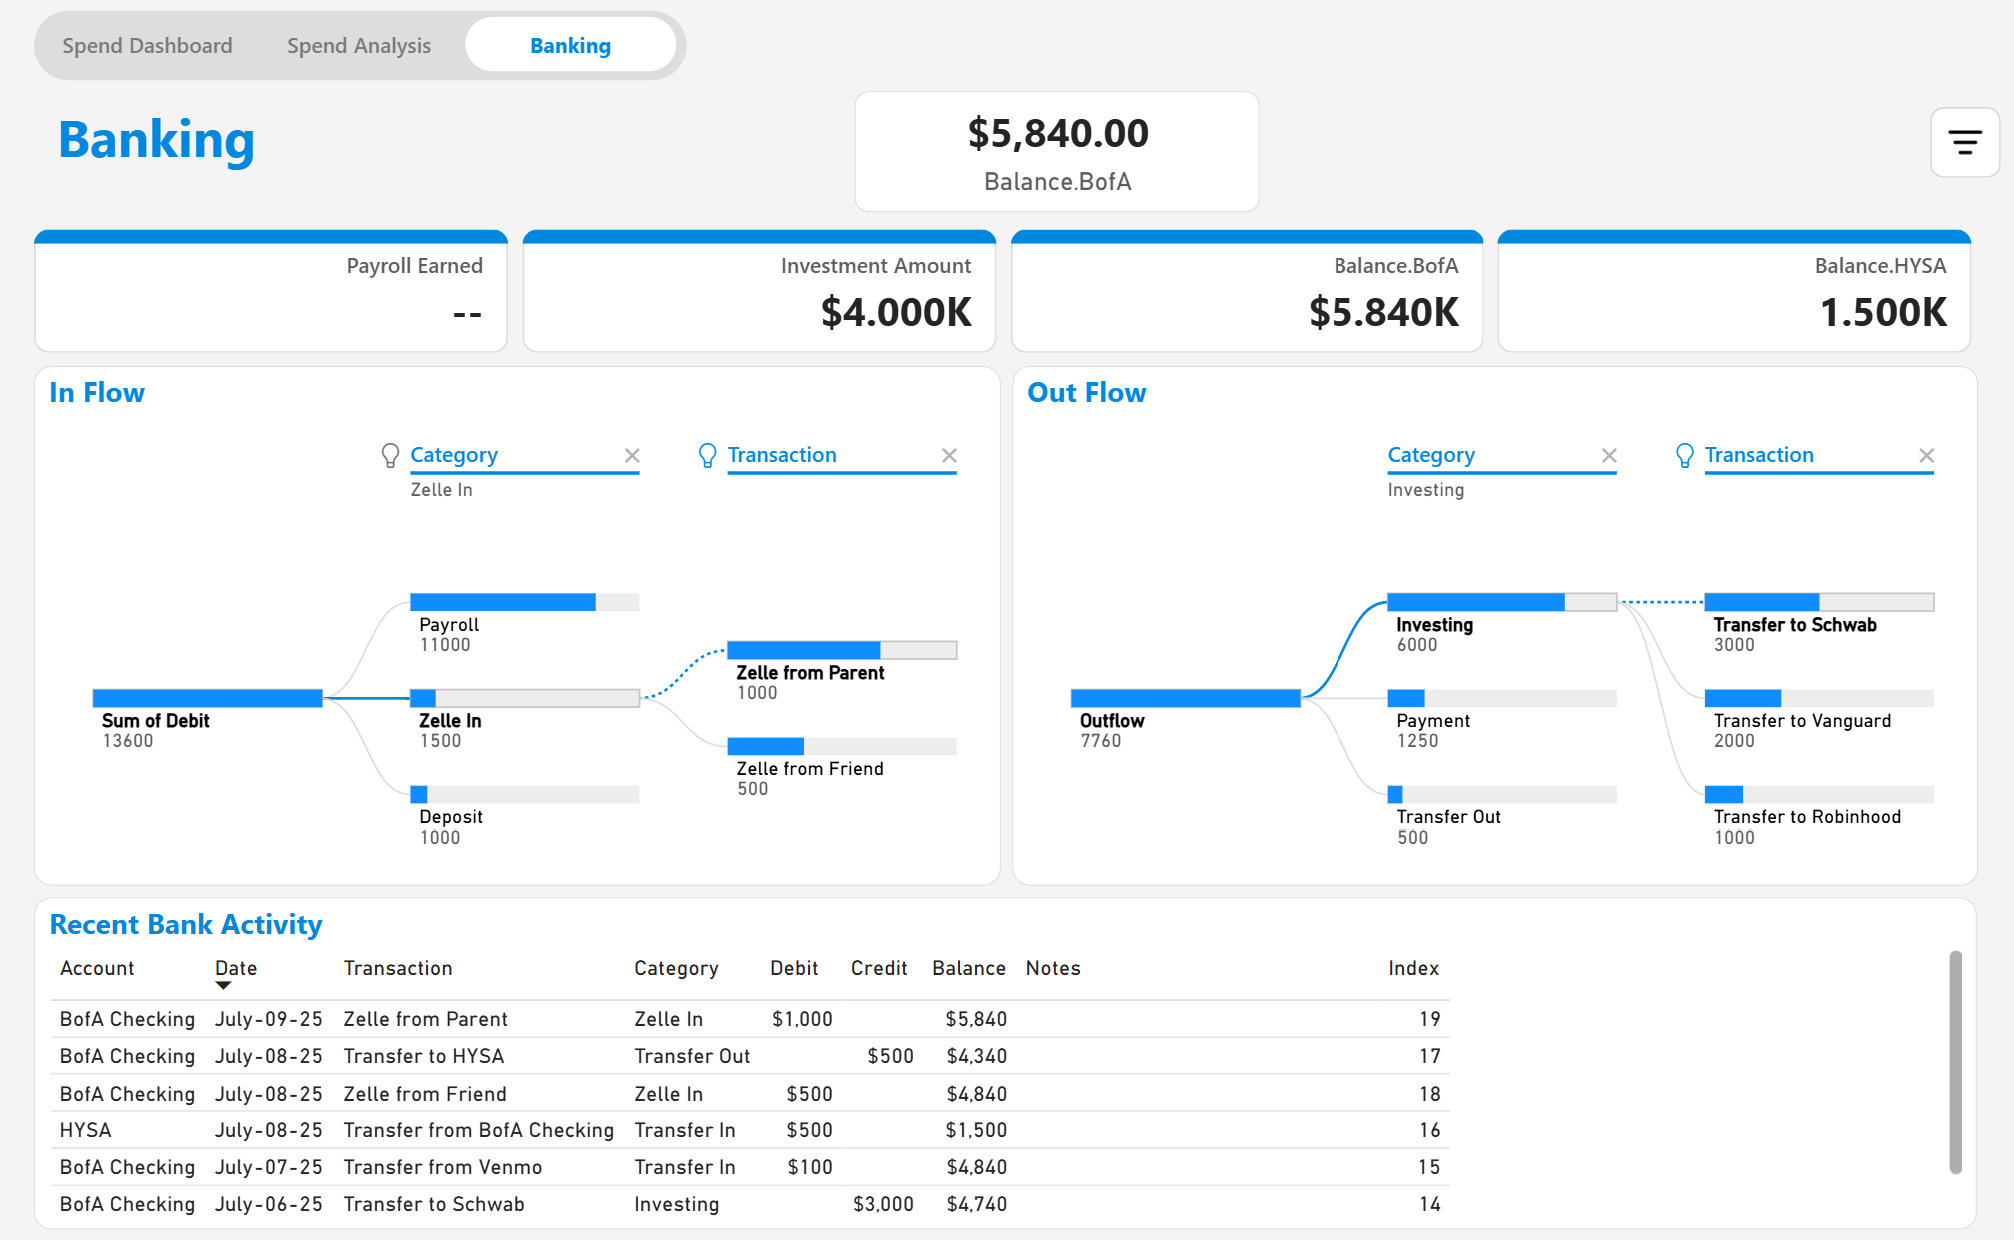

The page's visual inventory and layout, read from the dashboard file:
{"tool":"powerbi","page":{"name":"Banking","canvas":[1280,720],"ordinal":2},"visuals":[{"type":"shape","box":[0,0,60.8,719.8],"z":0,"group":"g1"},{"type":"group","id":"g1","title":"Nav - Left Icons","box":[0,0,60.8,719.8],"z":1000},{"type":"image","title":"Image - Bank","box":[15.4,183.8,30,30],"z":1000,"group":"g1"},{"type":"textbox","title":"Banking","box":[99.5,64.1,362.5,47.1],"z":2000},{"type":"image","title":"Image - Analysis","box":[15.4,132.5,30,30],"z":2000,"group":"g1"},{"type":"pageNavigator","box":[91.5,13.2,370.5,39.5],"z":3000},{"type":"image","title":"Image - Home","box":[15.4,78.4,30,30],"z":3000,"group":"g1"},{"type":"actionButton","title":"Button - Dash - Open","box":[1168,67.4,40.3,40.3],"z":4000},{"type":"cardVisual","title":"Card - Payroll","fields":{"Data":["COMBINED Checking and Savings.Payroll","COMBINED Banking.Investment Amount","COMBINED Checking and Savings.Balance - BofA","COMBINED Banking.Balance.HYSA"]},"box":[91.3,137,1103.1,70.5],"z":7000},{"type":"decompositionTreeVisual","title":"Out Flow","fields":{"ExplainBy":["Checking - BofA.Category","Checking - BofA.Transaction"],"Analyze":["Sum(Checking - BofA.Credit)"]},"box":[646.5,214,548.4,294.5],"z":8000},{"type":"tableEx","title":"Recent Bank Activity","fields":{"Values":["COMBINED Checking + Savings.Account","COMBINED Checking + Savings.Date","COMBINED Checking + Savings.Transaction","COMBINED Checking + Savings.Category","Sum(COMBINED Checking + Savings.Debit)","Sum(COMBINED Checking + Savings.Credit)","Sum(COMBINED Checking + Savings.Balance)","COMBINED Checking + Savings.Notes","Sum(COMBINED Checking and Savings.Index)"]},"box":[91.3,515.3,1103.1,188.7],"z":9000},{"type":"card","title":"Card - Payroll","fields":{"Values":["COMBINED Checking and Savings.Balance - BofA"]},"box":[556.9,58.9,229.7,68.7],"z":12000},{"type":"decompositionTreeVisual","title":"In Flow","fields":{"ExplainBy":["Checking - BofA.Category","Checking - BofA.Transaction"],"Analyze":["Sum(Checking - BofA.Debit)"]},"box":[91.6,214,548.4,294.5],"z":13000}]}

Visuals, with their boxes on the page's 1280x720 design canvas (x1, y1, x2, y2). These are canvas units, not pixel positions in the 2014x1240 screenshot, which may show the page scaled, cropped or inside an application window:
shape: bbox(0, 0, 61, 720)
"Nav - Left Icons" group: bbox(0, 0, 61, 720)
"Image - Bank" image: bbox(15, 184, 45, 214)
"Banking" textbox: bbox(100, 64, 462, 111)
"Image - Analysis" image: bbox(15, 132, 45, 162)
pageNavigator: bbox(92, 13, 462, 53)
"Image - Home" image: bbox(15, 78, 45, 108)
"Button - Dash - Open" actionButton: bbox(1168, 67, 1208, 108)
"Card - Payroll" cardVisual: bbox(91, 137, 1194, 208)
"Out Flow" decompositionTreeVisual: bbox(646, 214, 1195, 508)
"Recent Bank Activity" tableEx: bbox(91, 515, 1194, 704)
"Card - Payroll" card: bbox(557, 59, 787, 128)
"In Flow" decompositionTreeVisual: bbox(92, 214, 640, 508)
